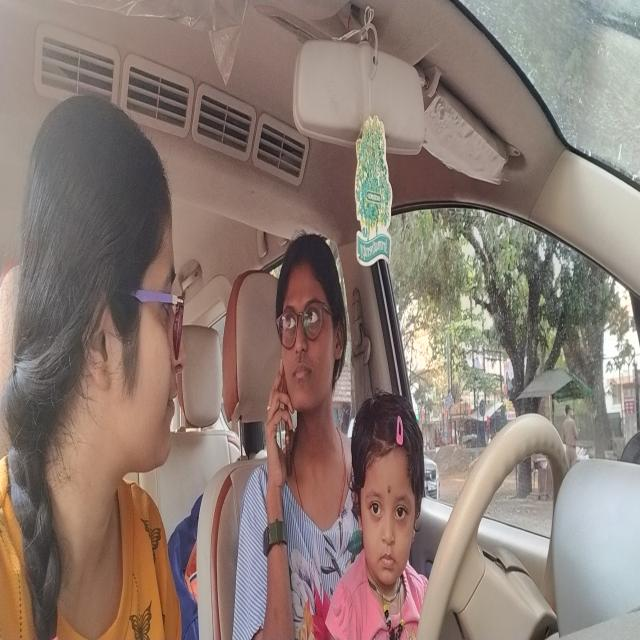LeftRight: (13, 73, 190, 511), (270, 231, 350, 426)
child: (346, 390, 430, 598)
mobile: (281, 358, 291, 464)
